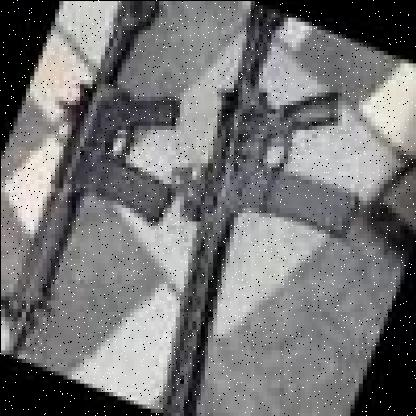rifle: (104, 4, 404, 416), (0, 0, 250, 387)
